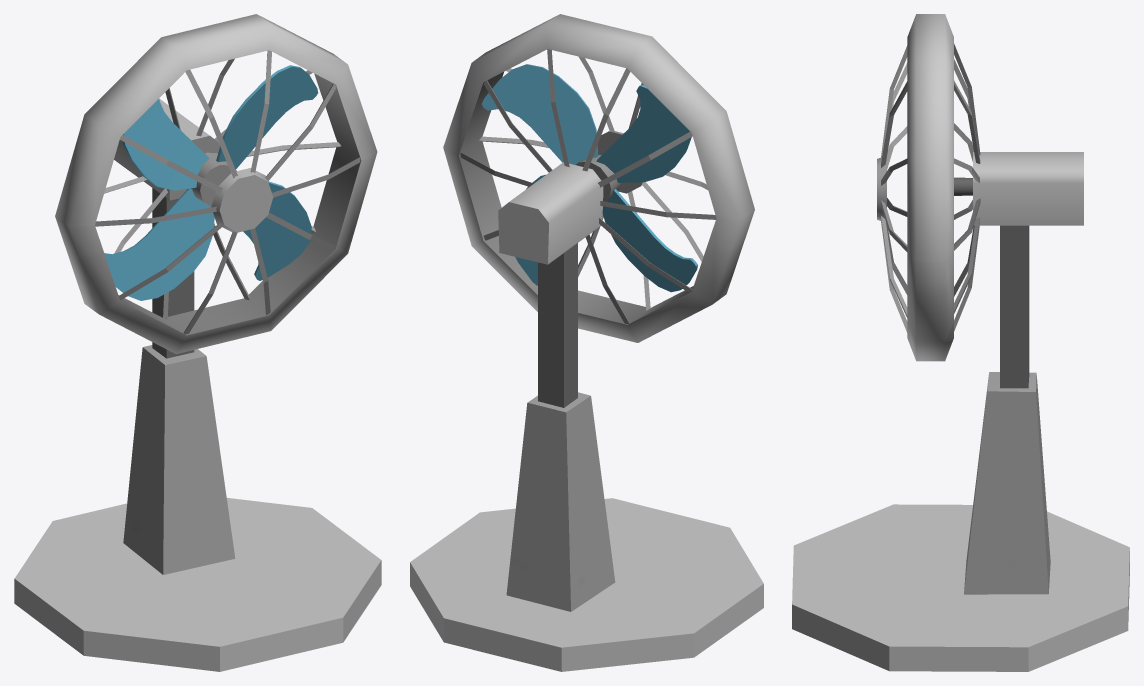
The model's file is ElectricFan.fbx.
3 renders of one model, left to right at view 1: azimuth 30°, elevation 25°; view 2: azimuth 150°, elevation 25°; view 3: azimuth 270°, elevation 25°, orthographic. The views are drawn at different scales.
Visible parts, largest first — view 1: EF01, EF03, Edge03, Edge02, Edge01, Edge04, EF04, EF02, EF05, pCube33, pCube34, pCube32 (+4 smaller); view 2: EF01, EF03, EF02, Edge01, Edge02, Edge03, pCube39, pCube31, pCube30, pCube32, pCube38, EF05 (+2 smaller); view 3: EF01, EF03, EF02, pCube38.
Boxes of the visible parts, x1,y1,x2,y2 form: EF01: (14, 188, 381, 671); EF03: (55, 14, 377, 354); Edge03: (104, 188, 214, 300); Edge02: (122, 98, 209, 190); Edge01: (216, 65, 318, 169); Edge04: (243, 181, 311, 280); EF04: (211, 168, 273, 232); EF02: (114, 99, 219, 200); EF05: (186, 152, 236, 206); pCube33: (120, 135, 222, 193); pCube34: (95, 206, 216, 226); pCube32: (185, 69, 237, 178); EF01: (410, 243, 763, 671); EF03: (443, 14, 754, 342); EF02: (498, 162, 603, 264); Edge01: (482, 64, 598, 164); Edge02: (596, 84, 691, 182); Edge03: (602, 189, 697, 292); pCube39: (600, 201, 716, 219); pCube31: (582, 68, 630, 171); pCube30: (598, 131, 692, 187); pCube32: (547, 49, 569, 167); pCube38: (599, 218, 692, 292); EF05: (576, 155, 620, 201); EF01: (792, 225, 1129, 671); EF03: (907, 14, 953, 361); EF02: (973, 152, 1083, 225); pCube38: (881, 216, 907, 317).
Bounding box in the file's own units: 67.16 × 120 × 64.86.
